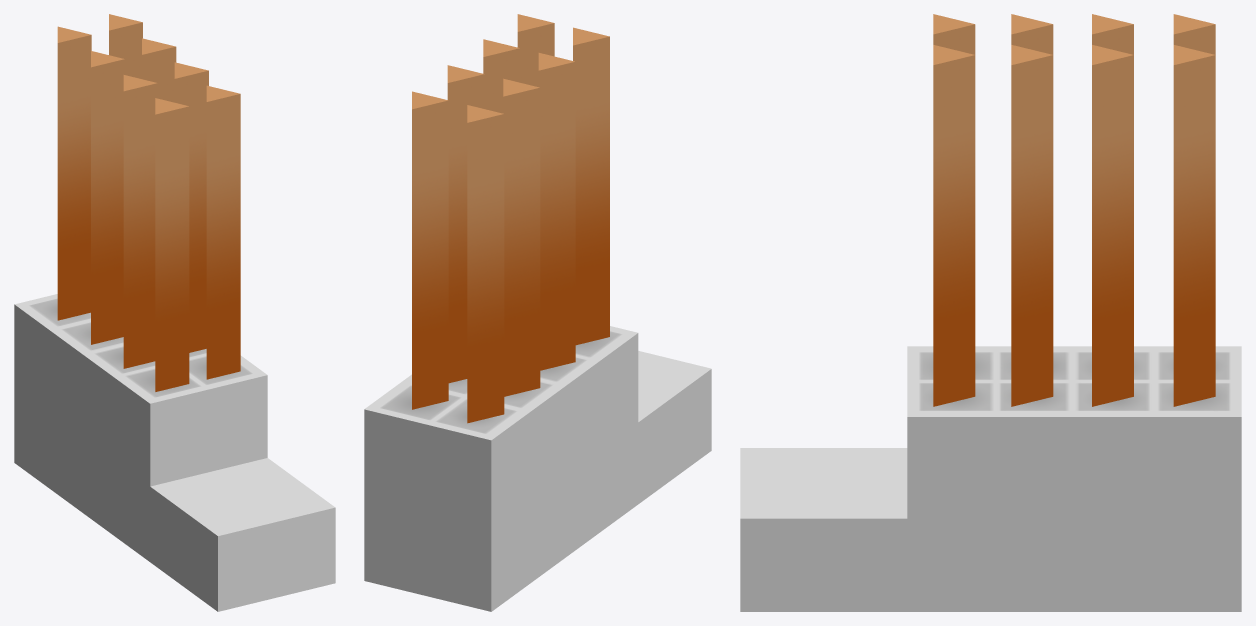
File: PowerConnectors1.fbx
3 views of the same model, side by side, from view 1: azimuth 30°, elevation 25°; view 2: azimuth 150°, elevation 25°; view 3: azimuth 270°, elevation 25° (orthographic). The views are drawn at different scales.
Visible parts, largest first — view 1: PowerConnectors1; view 2: PowerConnectors1; view 3: PowerConnectors1.
Part boxes in pixels (bbox=[...]): PowerConnectors1: bbox=[14, 14, 335, 611]; PowerConnectors1: bbox=[364, 14, 711, 611]; PowerConnectors1: bbox=[740, 14, 1241, 611].
Size of the model in its own units: 0.5 by 1.77 by 1.5.
